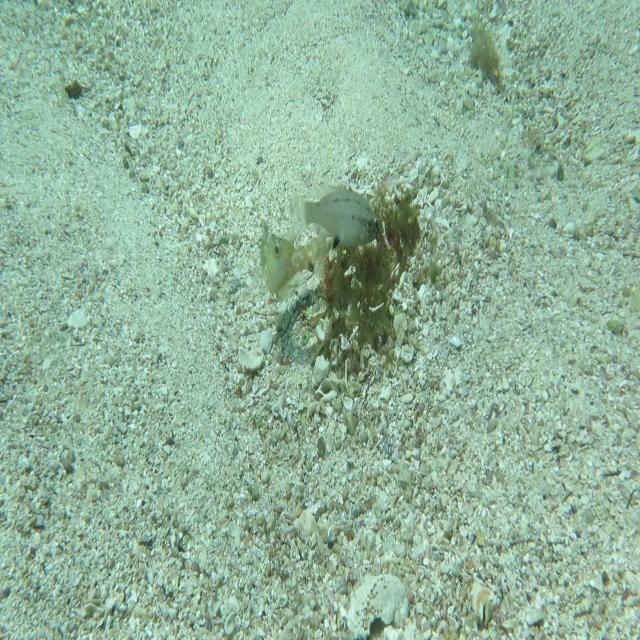BEND: (256, 217, 331, 302)
female: (286, 180, 382, 250)
nest: (306, 162, 431, 368)
